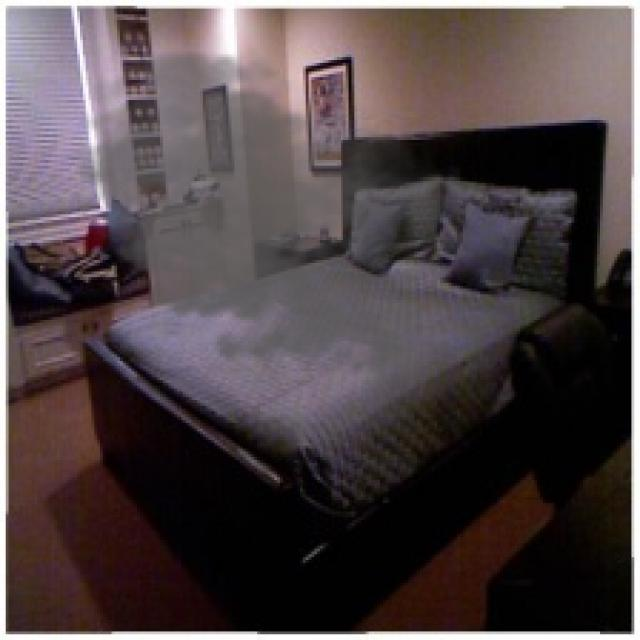smoke: (57, 43, 460, 386)
